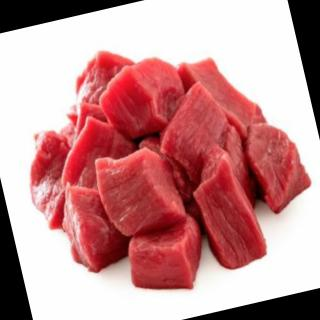Daging Sapi: (2, 9, 320, 314), (186, 148, 272, 276), (91, 140, 189, 239), (15, 120, 103, 227), (182, 49, 269, 152), (95, 52, 193, 143), (54, 108, 148, 197), (148, 80, 236, 175), (57, 178, 133, 274), (126, 218, 213, 301), (245, 114, 315, 213), (67, 51, 144, 130)
